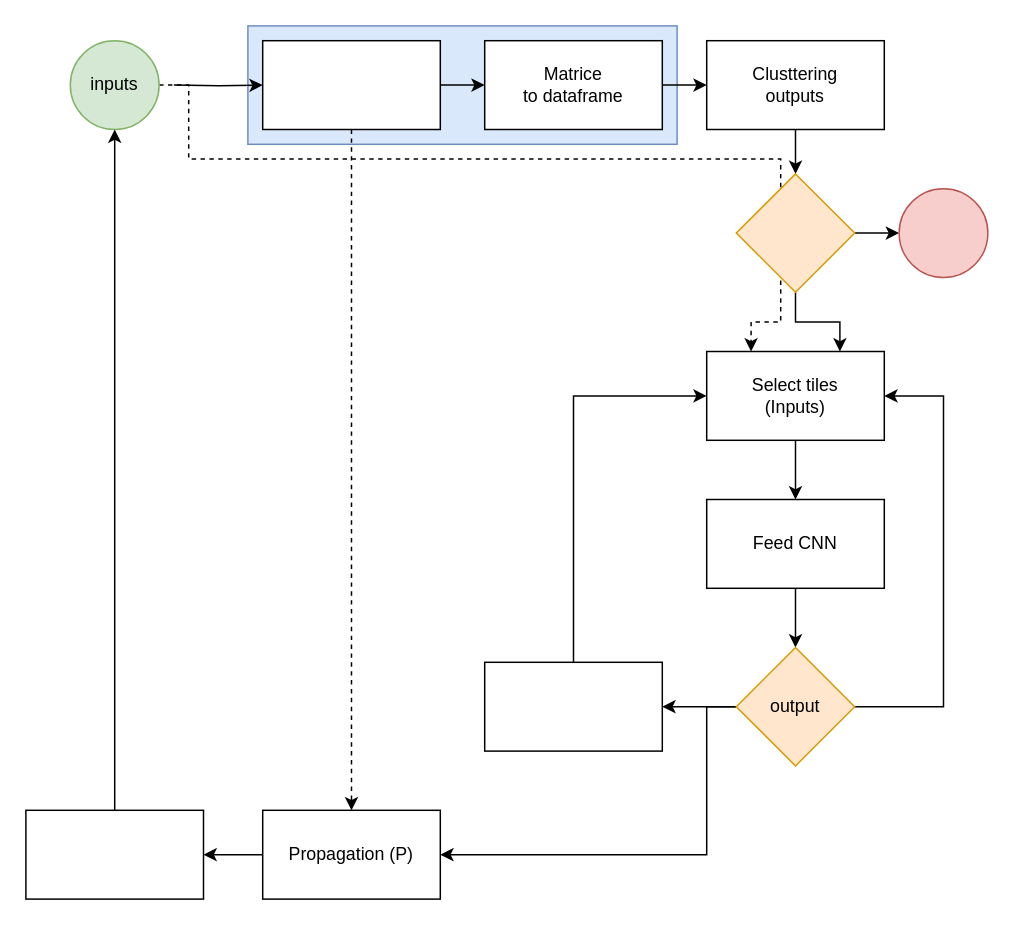
The diagram is 1014 pixels wide and 925 high, and some of its shapes have lost their labels. The centre of each missing label's shape, as x and y in pixels:
"Convolve Inputs" goes at [350,84].
"Get Map (P)" goes at [114,854].
"n_clustters" goes at [795,232].
"n_predictions: plus 1" goes at [572,706].
